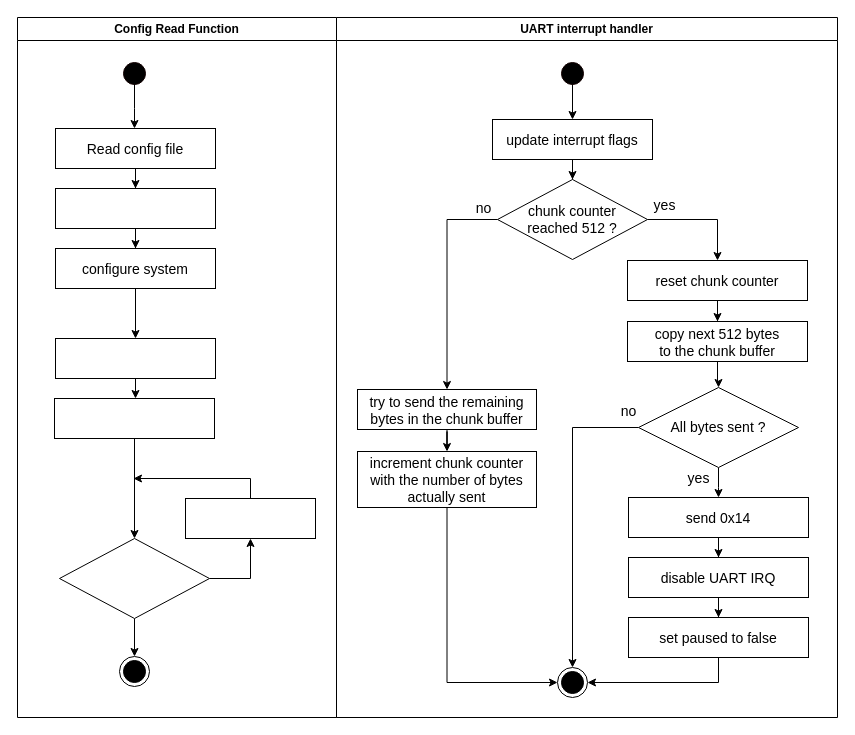
Some shapes in this 855 by 735 pixel diagram are drawn without their labels. Here are the shapes that lost their labels. From the top down, the box of each, then its label:
(54, 188, 216, 228): parse JSON
(54, 338, 216, 378): enable UART IRQ
(54, 398, 214, 438): set paused to true
(184, 498, 316, 538): wait 100 ms
(58, 538, 210, 618): paused is true ?
